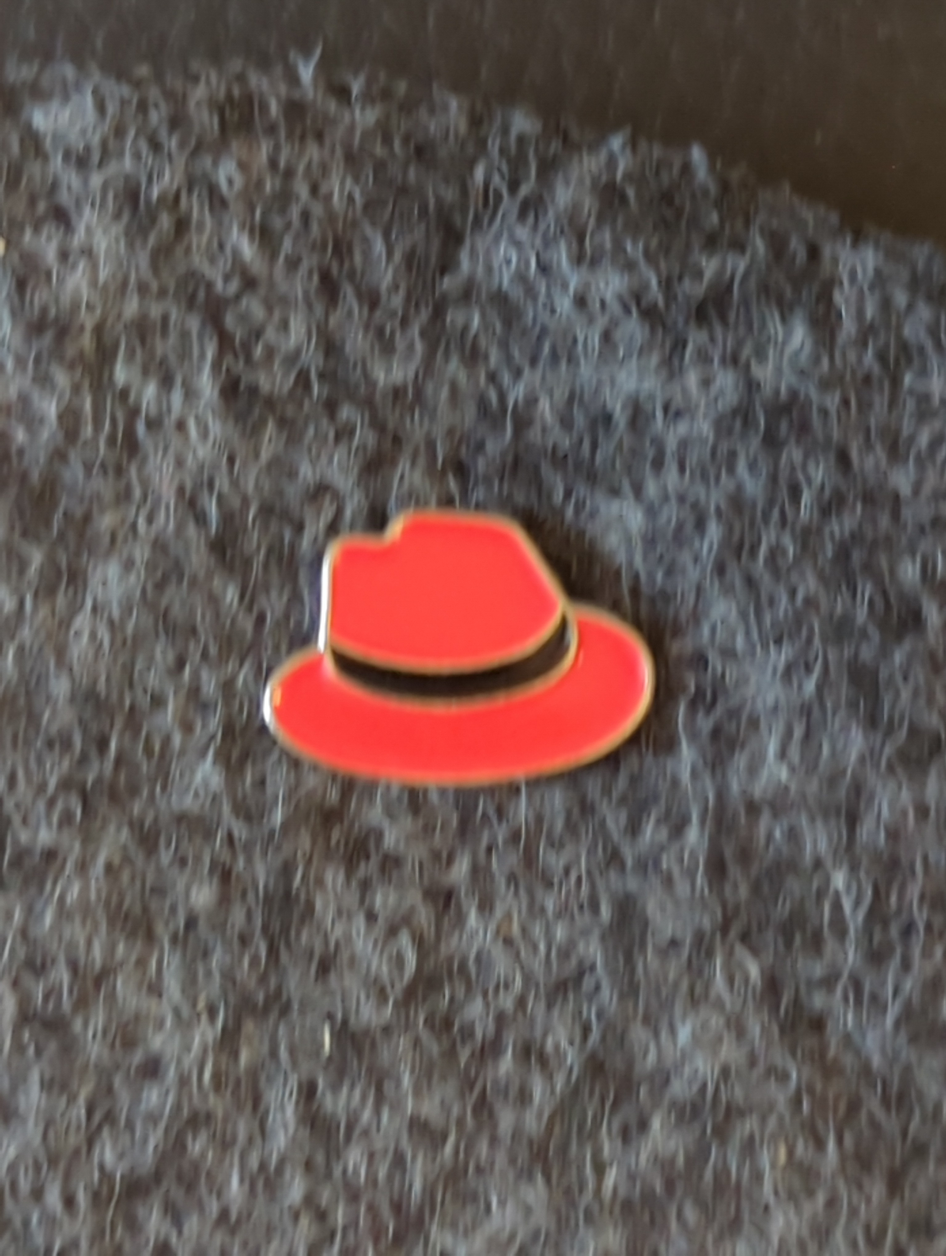Red-Hat: (157, 426, 808, 960)
